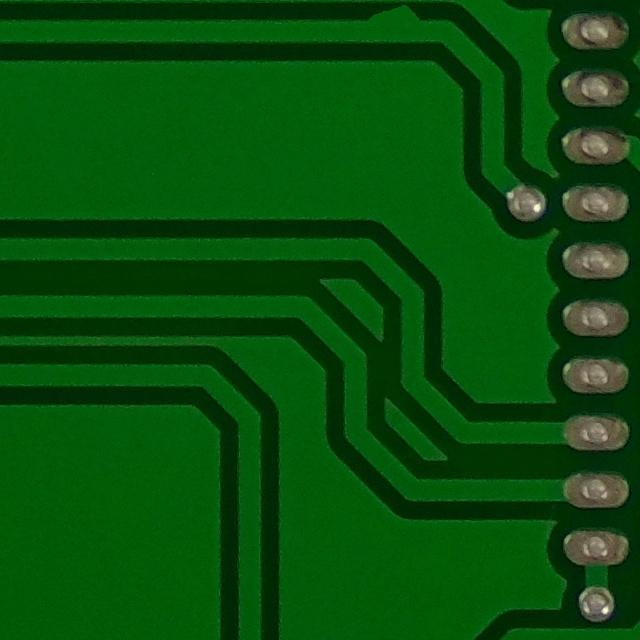spur: (355, 0, 432, 51)
